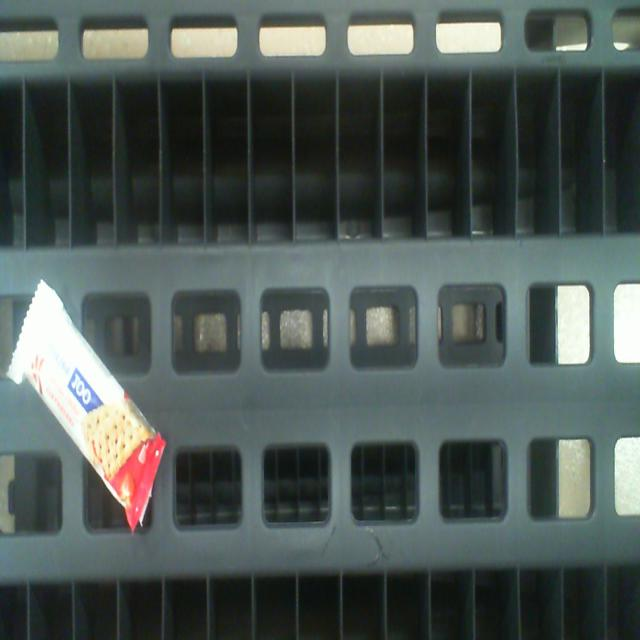snack: (13, 284, 162, 515)
